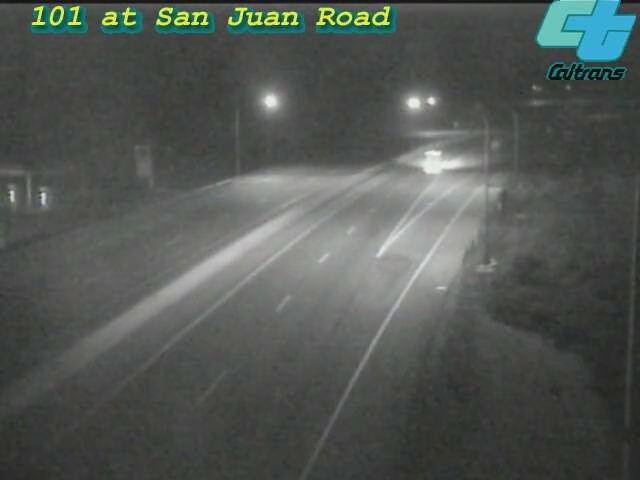vehicle: (392, 120, 472, 200)
